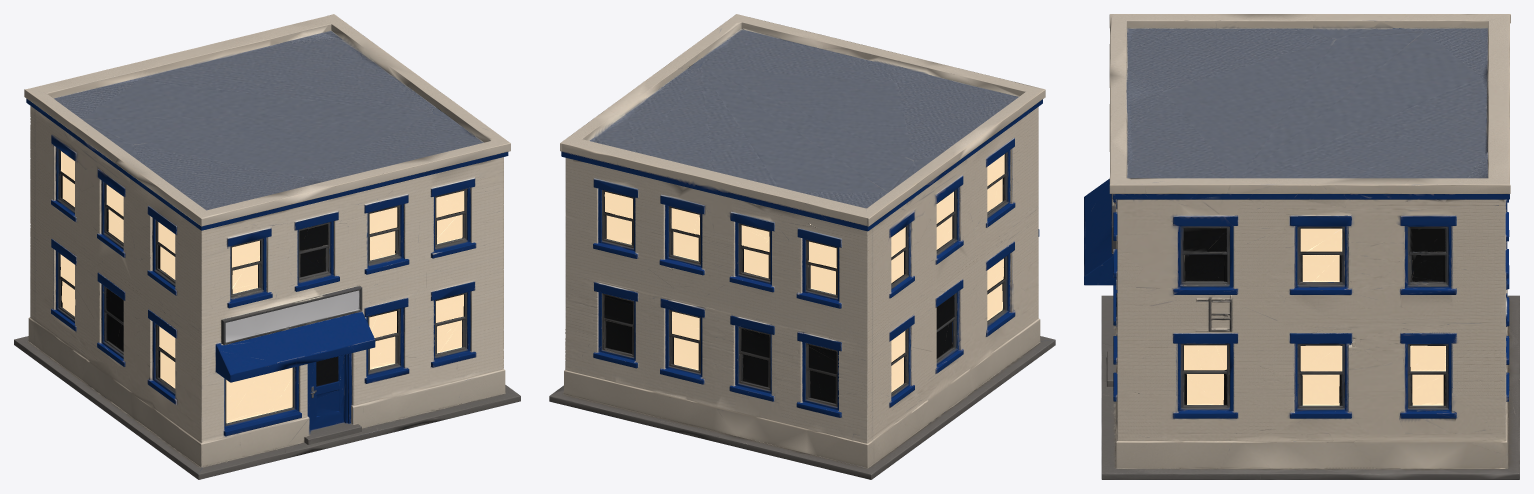
File: crew-bluehand-club.glb
3 renders of one model, left to right at view 1: azimuth 30°, elevation 25°; view 2: azimuth 150°, elevation 25°; view 3: azimuth 270°, elevation 25°, orthographic. The views are drawn at different scales.
Size of the model in its own units: 10.49 by 8 by 10.84.
Materials: 4 (4 with a texture image).
